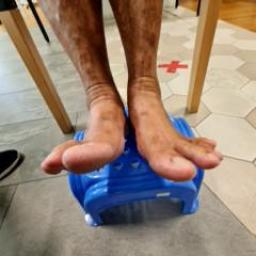Front View -Both Feet-: (26, 53, 230, 208)
